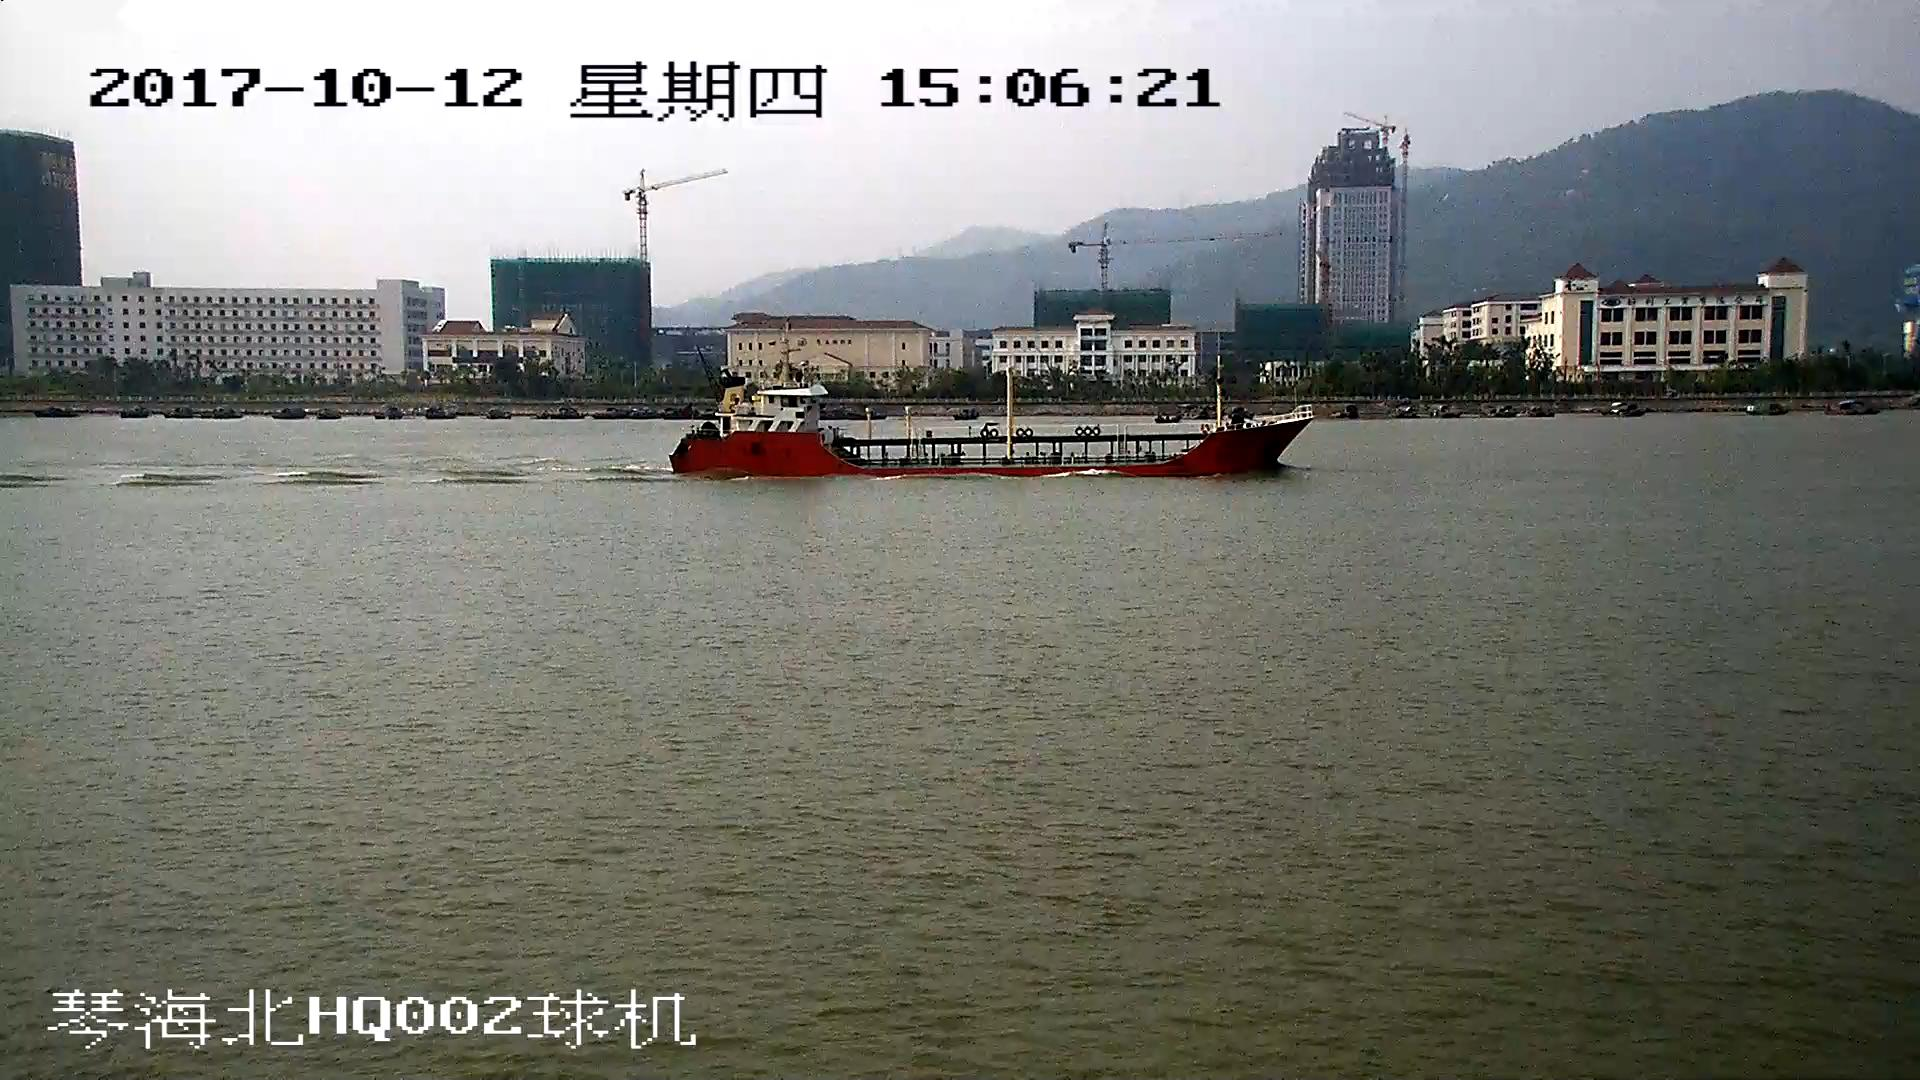general cargo ship: (669, 347, 1317, 478)
